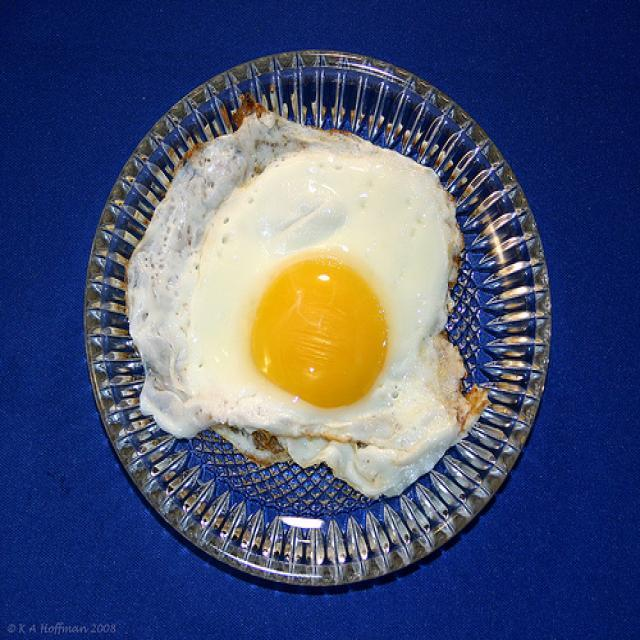Egg: (122, 102, 485, 500)
